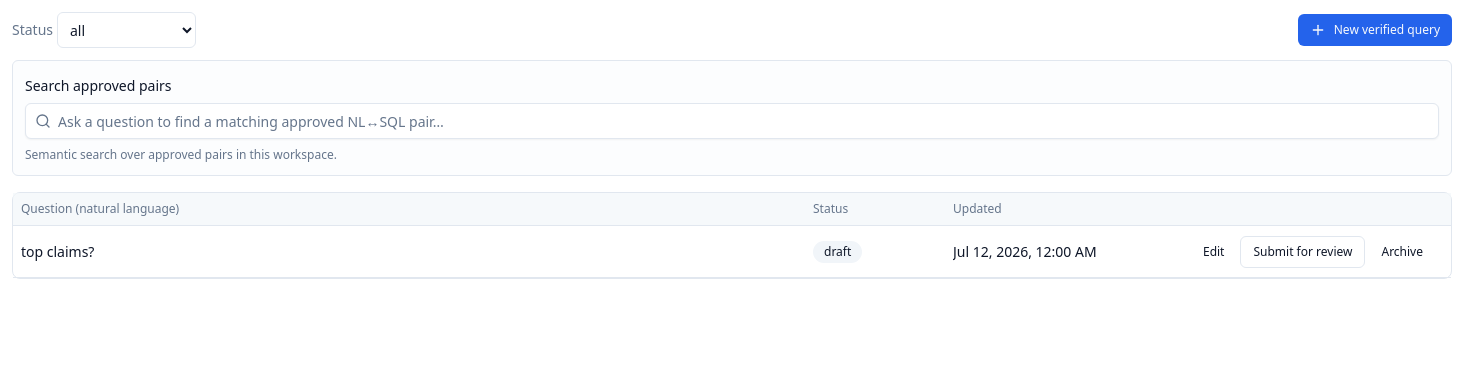
Test: VerifiedQueriesPanel (semantic-service four-eyes NL↔SQL governance) › searches approved pairs: debounced query threads workspace + topK and renders the hits
The image size is (1464, 386).
Check: the table named "Verified queries" is shown, box [12,192,1452,279]
Type "reserve" into the field labelled "Search approved pairs". click: (732, 121)
box: [25,103,1439,139]
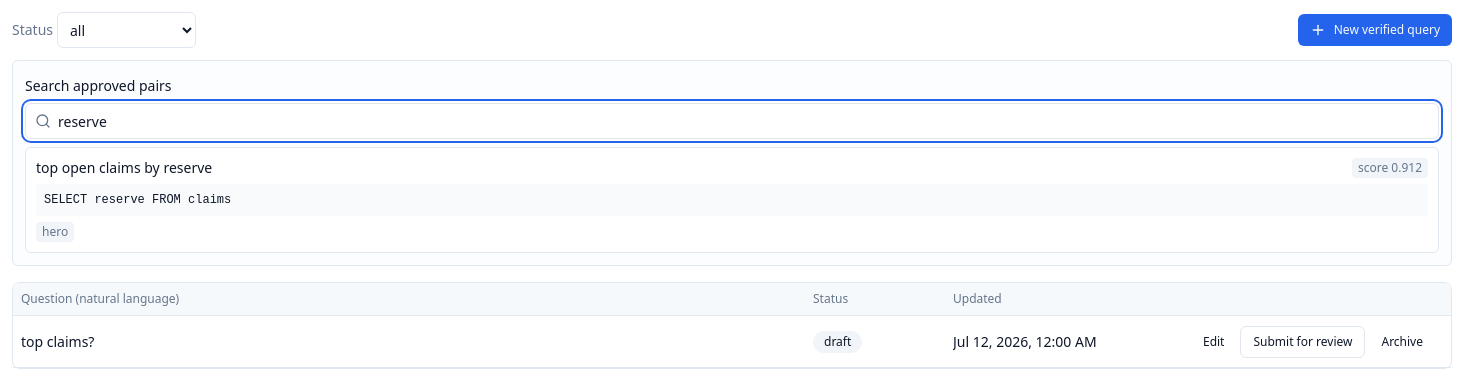
Check: the text "top open claims by reserve" is shown, box [36,158,212,178]
Check: the text "SELECT reserve FROM claims" is shown, box [36,184,1428,216]
Check: the text "score 0.912" is shown, box [1352,158,1428,178]
